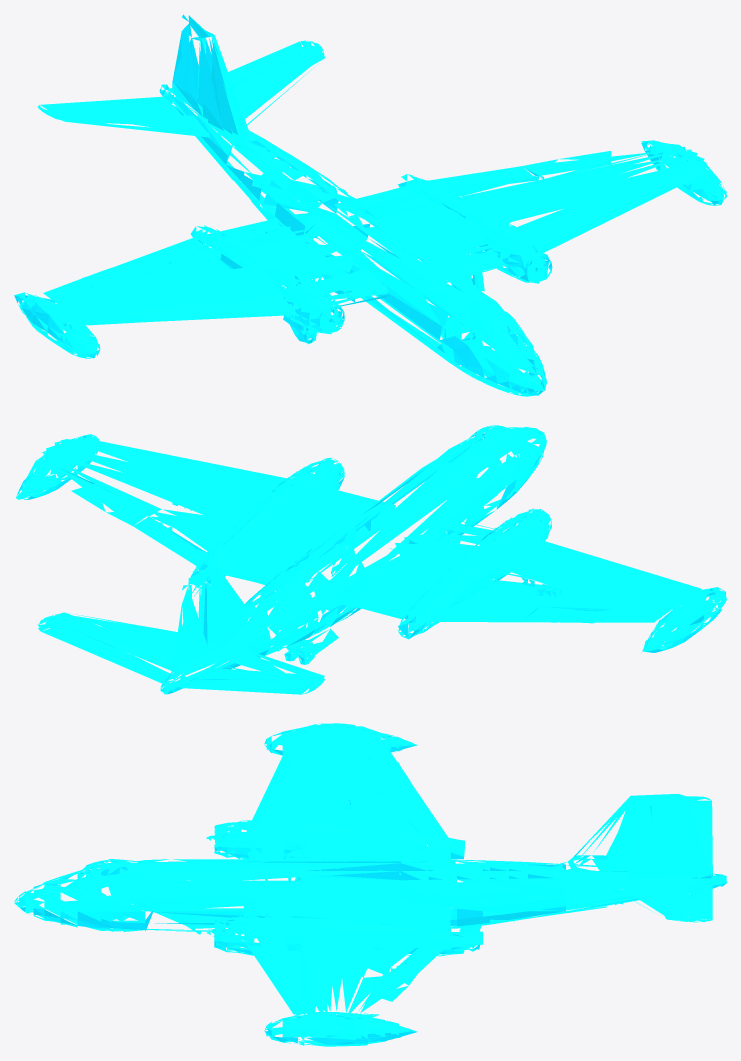
The model's file is PBAD121.glb.
3 renders of one model, top to bottom at view 1: azimuth 30°, elevation 25°; view 2: azimuth 150°, elevation 25°; view 3: azimuth 270°, elevation 25°, orthographic. The views are drawn at different scales.
Parts seen in each view (by area): view 1: misc; view 2: misc; view 3: misc.
Part boxes in pixels (bbox=[...]): misc: bbox=[14, 14, 726, 396]; misc: bbox=[16, 425, 726, 694]; misc: bbox=[14, 723, 726, 1046].
Size of the model in its own units: 1.31 by 0.3163 by 1.31.
